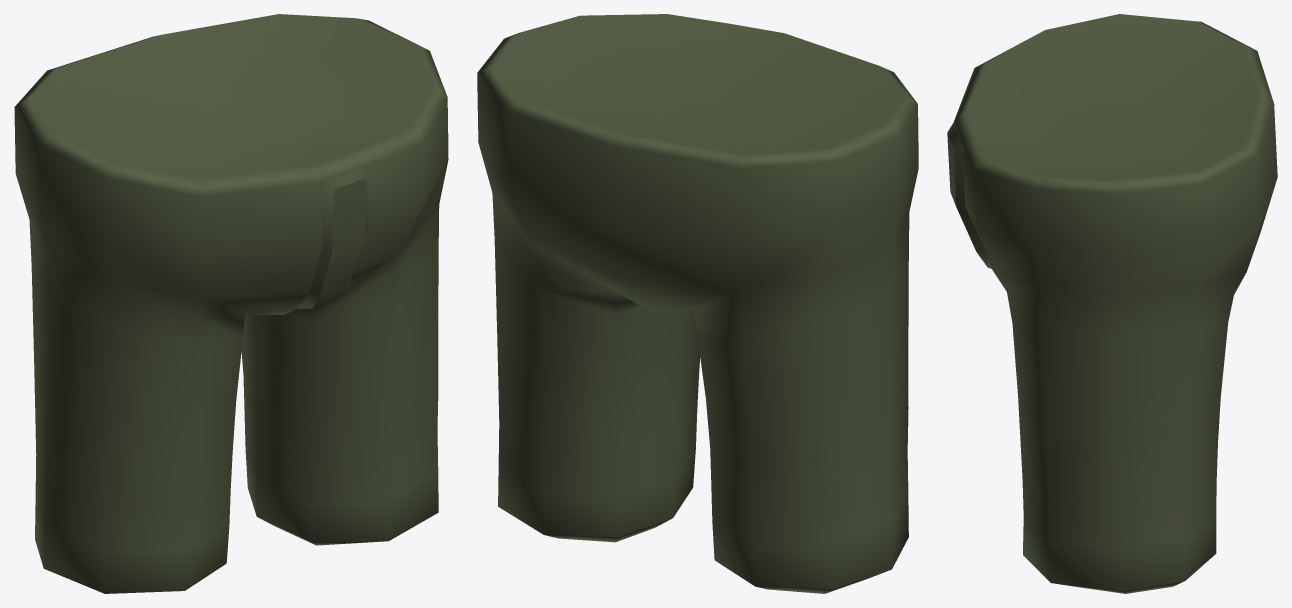
Rendered from Bottom_16.fbx.
The picture shows the model from 3 angles, left to right: view 1: azimuth 30°, elevation 25°; view 2: azimuth 150°, elevation 25°; view 3: azimuth 270°, elevation 25°; orthographic projection. The views are drawn at different scales.
Visible parts, largest first — view 1: Bottom_16; view 2: Bottom_16; view 3: Bottom_16.
Part boxes in pixels (x1,y1,x2,y2): Bottom_16: (14,14,448,593); Bottom_16: (477,14,918,593); Bottom_16: (947,14,1277,593).
Size of the model in its own units: 38.53 by 42.7 by 30.23.
